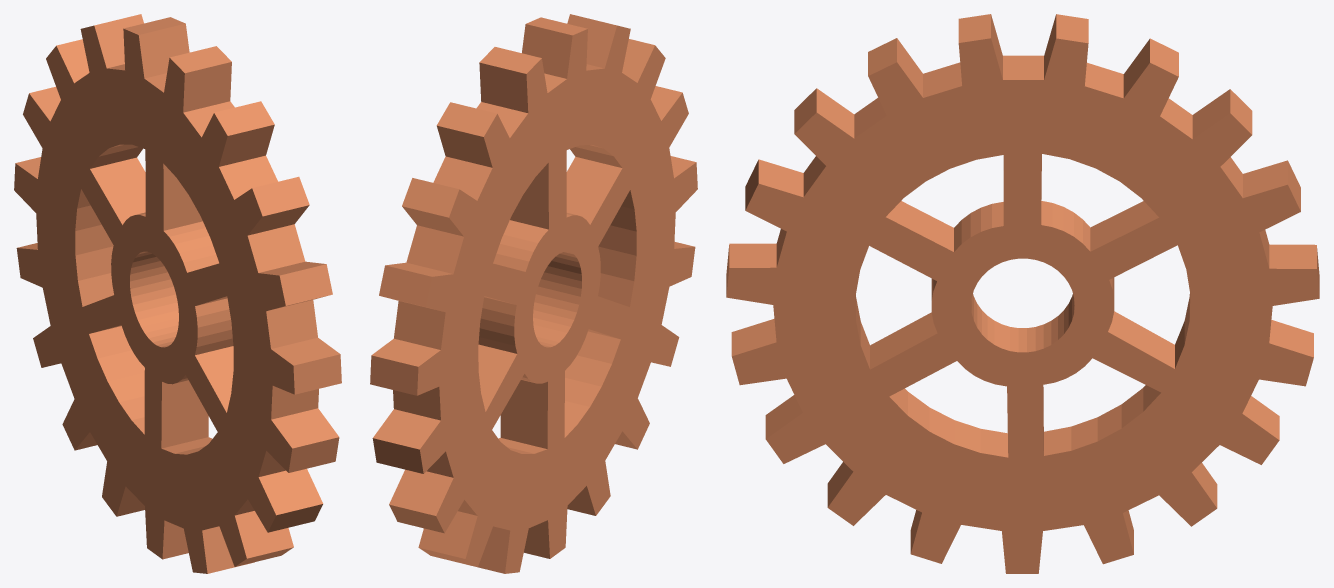
File: Engranaje.fbx
3 views of the same model, side by side, from view 1: azimuth 30°, elevation 25°; view 2: azimuth 150°, elevation 25°; view 3: azimuth 270°, elevation 25° (orthographic). The views are drawn at different scales.
Visible parts, largest first — view 1: Engranaje; view 2: Engranaje; view 3: Engranaje.
Boxes of the visible parts, <box> form: Engranaje: <box>14,14,341,573</box>; Engranaje: <box>370,14,697,573</box>; Engranaje: <box>726,14,1319,573</box>.
Bounding box in the file's own units: 18.28 × 188 × 189.
